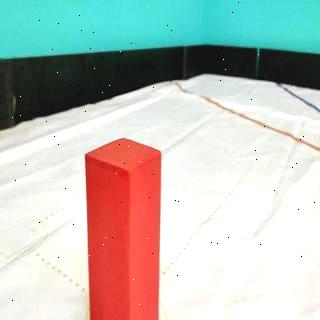redbox: (85, 136, 161, 320)
